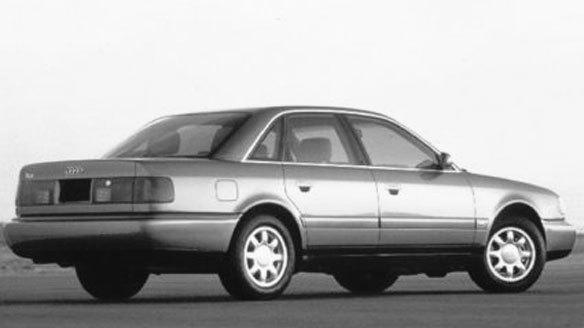car: (7, 107, 575, 301)
